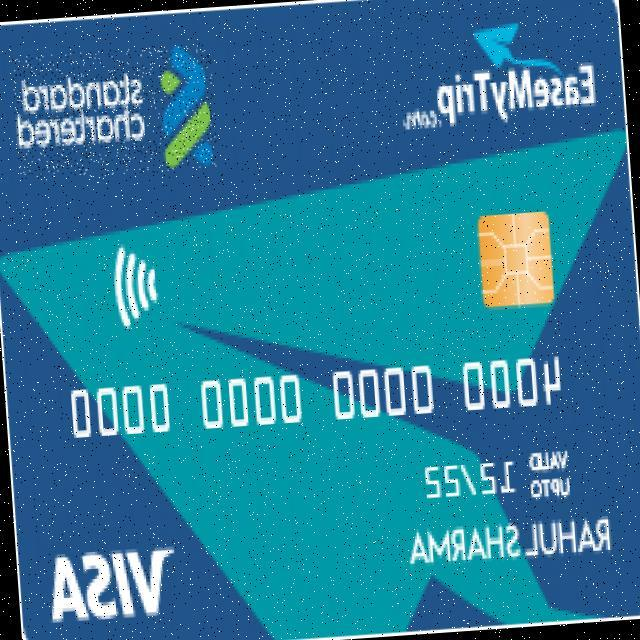Standard Chartered: (10, 43, 219, 183)
